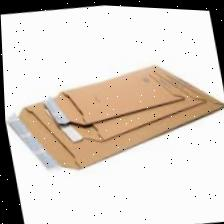cardboard: (1, 27, 224, 194)
